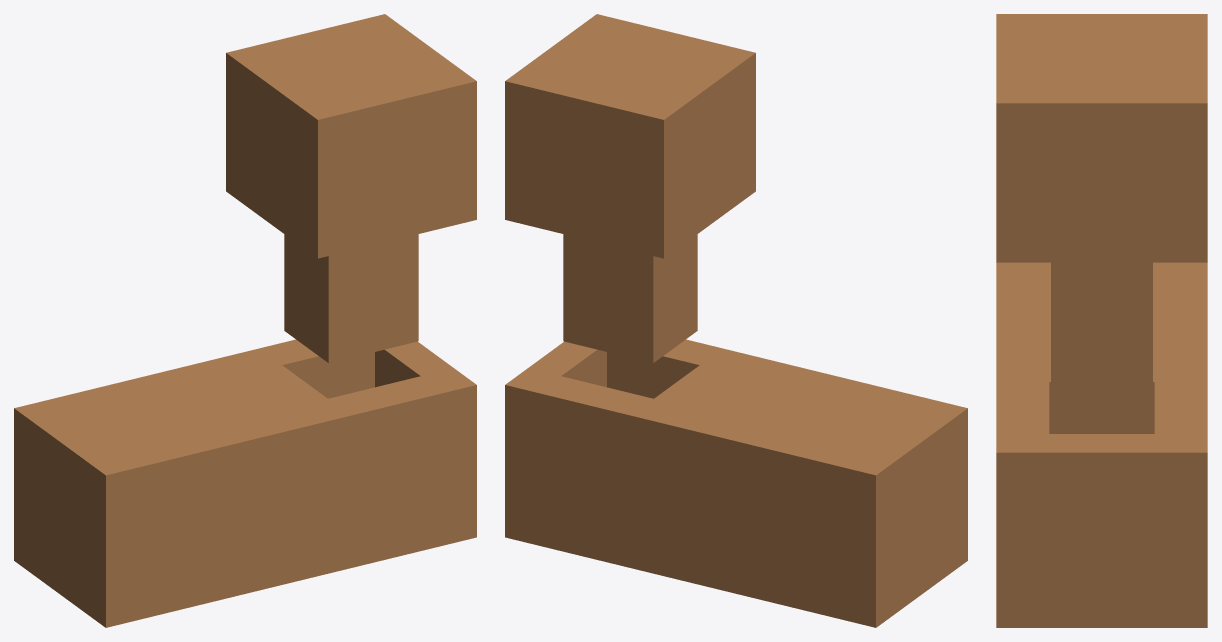
The model's file is mortise-demo.glb.
3 renders of one model, left to right at view 1: azimuth 30°, elevation 25°; view 2: azimuth 150°, elevation 25°; view 3: azimuth 270°, elevation 25°, orthographic. The views are drawn at different scales.
Visible parts, largest first — view 1: 卯口木, 榫身, 榫头; view 2: 卯口木, 榫身, 榫头; view 3: 卯口木, 榫身, 榫头.
Boxes of the visible parts, left/top/right/bottom form: 卯口木: left=14, top=339, right=476, bottom=627; 榫身: left=226, top=14, right=476, bottom=258; 榫头: left=284, top=234, right=418, bottom=363; 卯口木: left=505, top=339, right=967, bottom=627; 榫身: left=505, top=14, right=755, bottom=258; 榫头: left=563, top=234, right=697, bottom=363; 卯口木: left=996, top=262, right=1207, bottom=627; 榫身: left=996, top=14, right=1207, bottom=262; 榫头: left=1051, top=262, right=1152, bottom=393.
Size of the model in its own units: 1.4 by 1.65 by 0.6.
